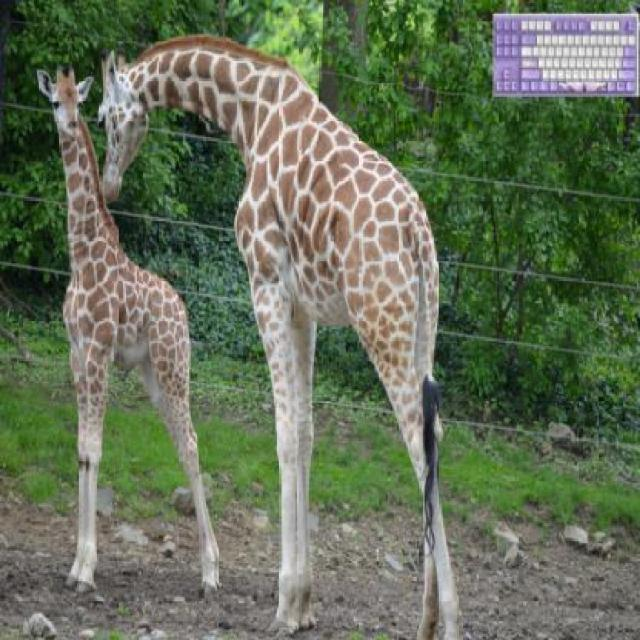keyboard: (489, 14, 637, 93)
